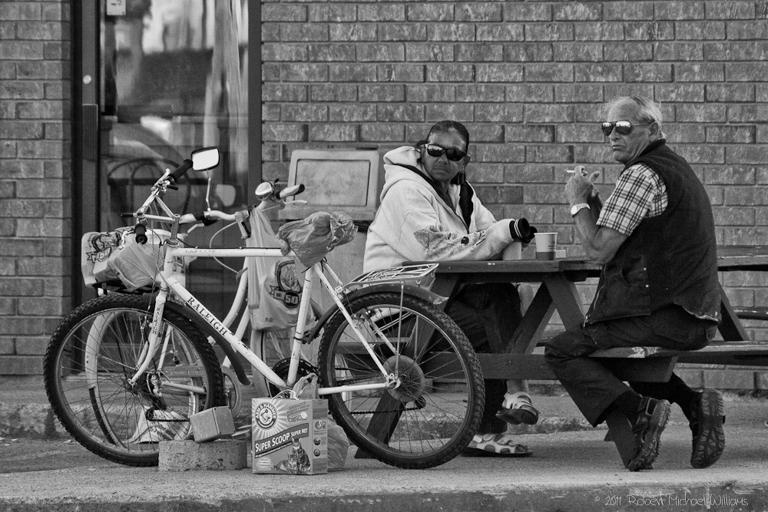non-vehicle: (40, 157, 485, 468), (82, 146, 336, 453)
